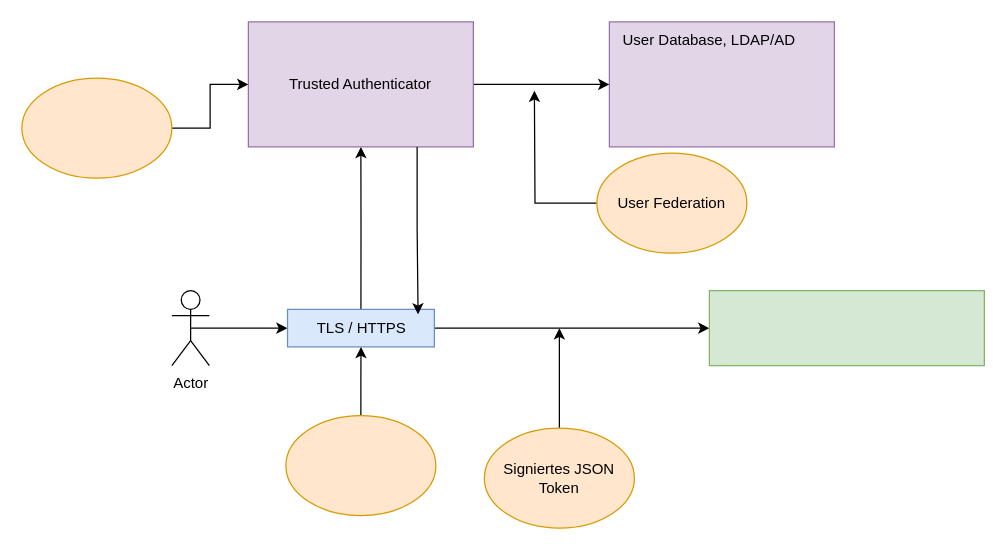
Image size: 1006x550. Some labels were removed from this diagram. The shapes that lost their labels are listed below. From the top down, each one's centre as x and y in pixels, then its label:
point (96, 127): Identity Provider
point (846, 327): Server-Application
point (360, 465): Pflicht durch RFC-Standard
